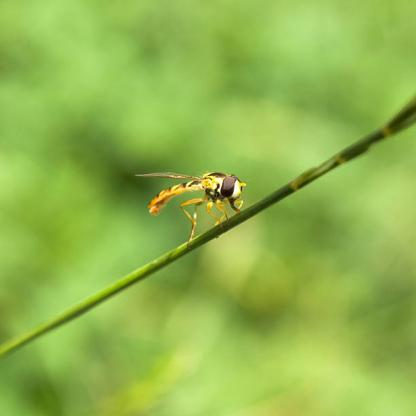sawfly: (134, 167, 252, 249)
